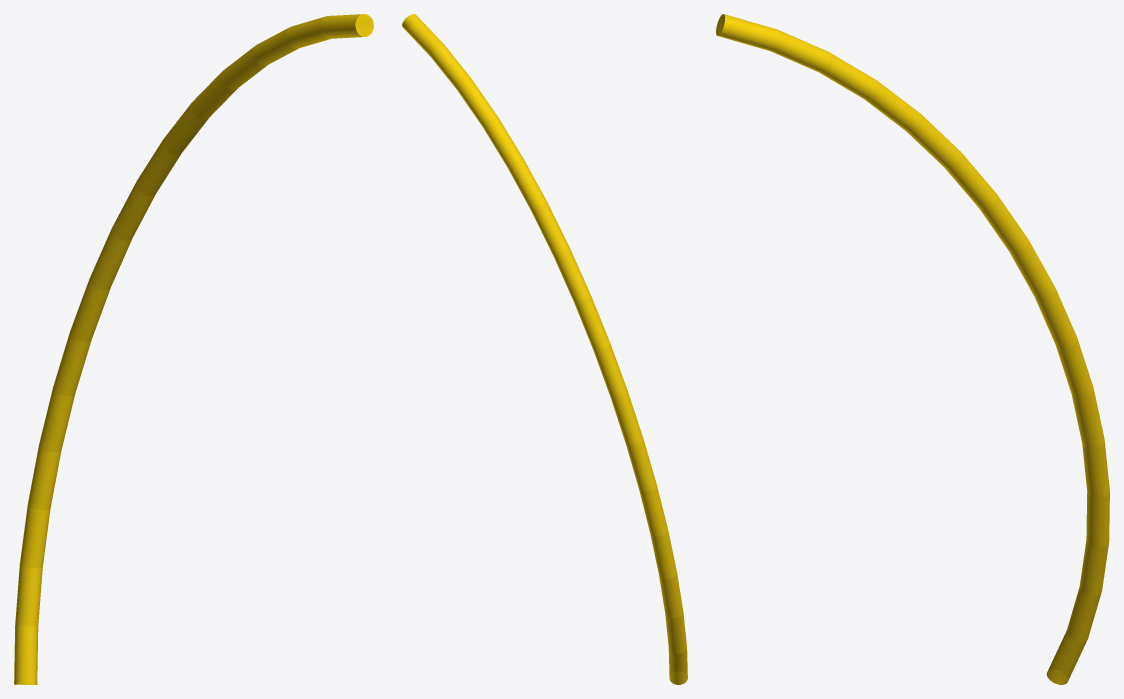
The model's file is Event_421115418_track_92.fbx.
3 renders of one model, left to right at view 1: azimuth 30°, elevation 25°; view 2: azimuth 210°, elevation 25°; view 3: azimuth 270°, elevation 25°, orthographic. The views are drawn at different scales.
Parts seen in each view (by area): view 1: Model; view 2: Model; view 3: Model.
Boxes of the visible parts, x1,y1,x2,y2 form: Model: (14, 14, 373, 684); Model: (402, 14, 687, 684); Model: (716, 14, 1109, 684).
Size of the model in its own units: 0.3749 by 1.44 by 0.6896.
